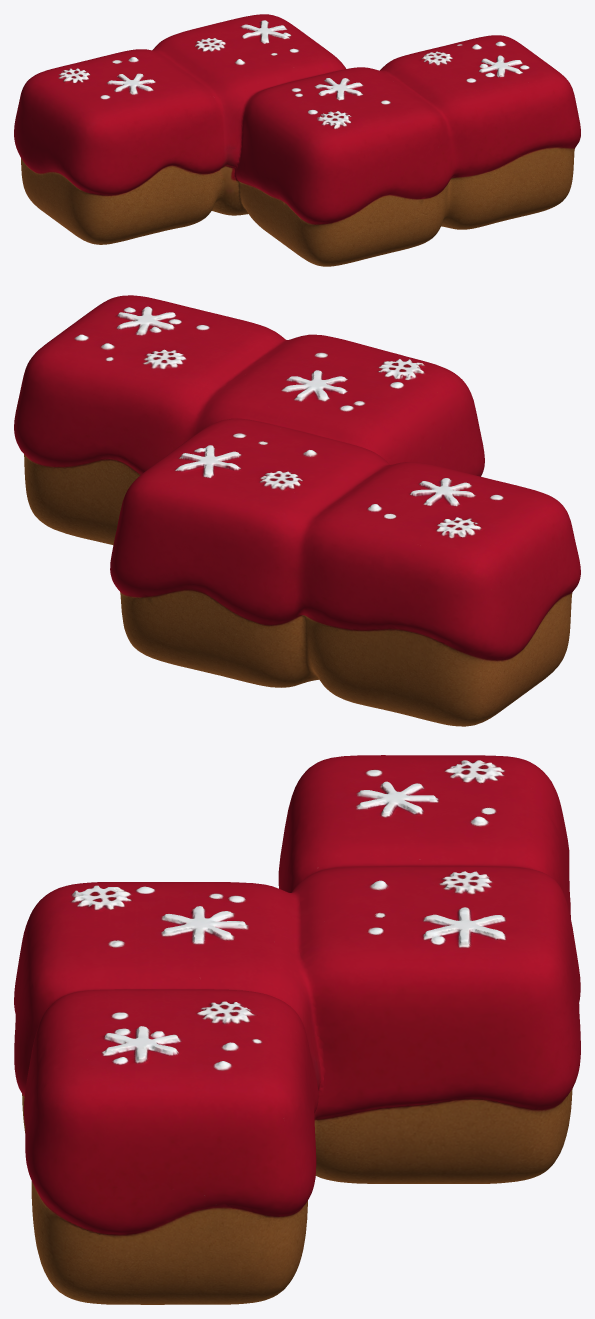
Rendered from crimson-tree.glb.
3 renders of one model, top to bottom at view 1: azimuth 30°, elevation 25°; view 2: azimuth 150°, elevation 25°; view 3: azimuth 270°, elevation 25°, orthographic. The views are drawn at different scales.
Size of the model in its own units: 1.9 by 0.5966 by 1.25.
1 material, 1 textured.
